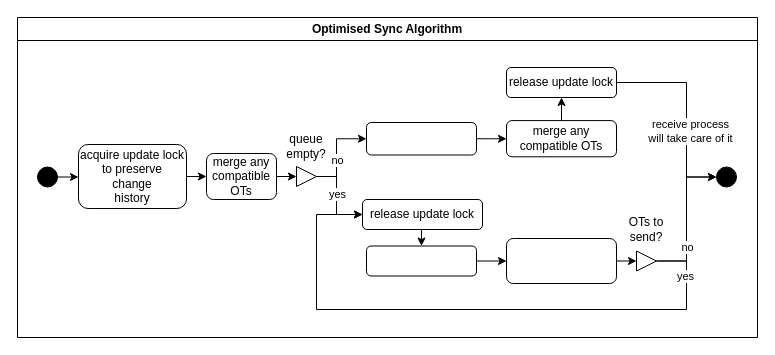
This 775x355 diagram has some shape labels left out. The shapes that lost their labels are listed below. From the top down, each one's centre as x and y in pixels, then its label:
(421,138): register OTs in waiting pool
(421,260): send oldest OT to server
(561,261): wait for ack for the sent OT
